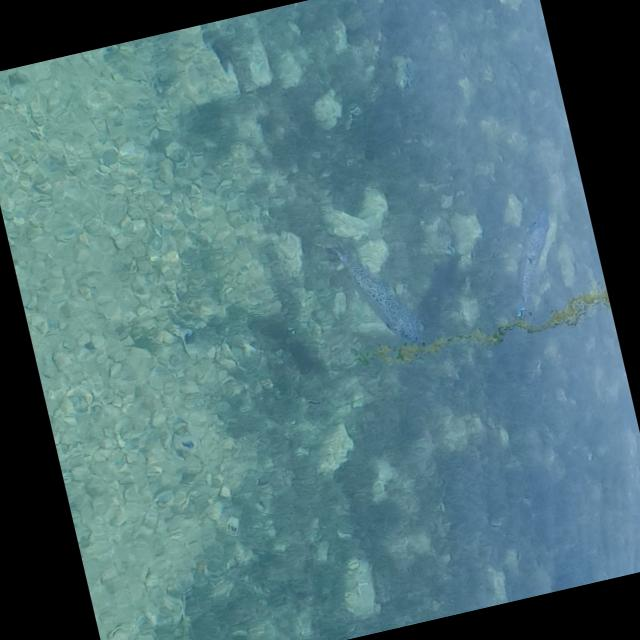Balon Baligi: (314, 218, 429, 362), (503, 207, 567, 300)
